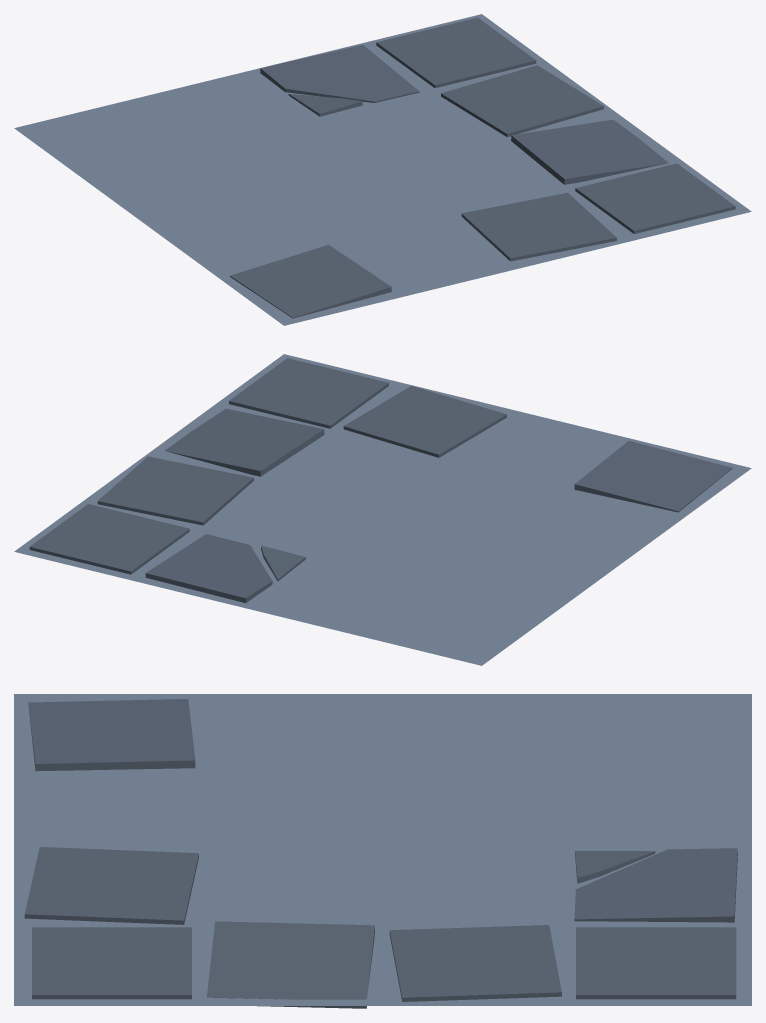
The model's file is FloorTile02.fbx.
3 renders of one model, top to bottom at view 1: azimuth 30°, elevation 25°; view 2: azimuth 150°, elevation 25°; view 3: azimuth 270°, elevation 25°, orthographic. The views are drawn at different scales.
Visible parts, largest first — view 1: Plane.002; view 2: Plane.002; view 3: Plane.002.
Part boxes in pixels (x1,y1,x2,y2): Plane.002: [14, 14, 751, 325]; Plane.002: [14, 354, 751, 665]; Plane.002: [14, 694, 751, 1008].
Size of the model in its own units: 800 by 19.99 by 800.
1 material, 1 textured.
